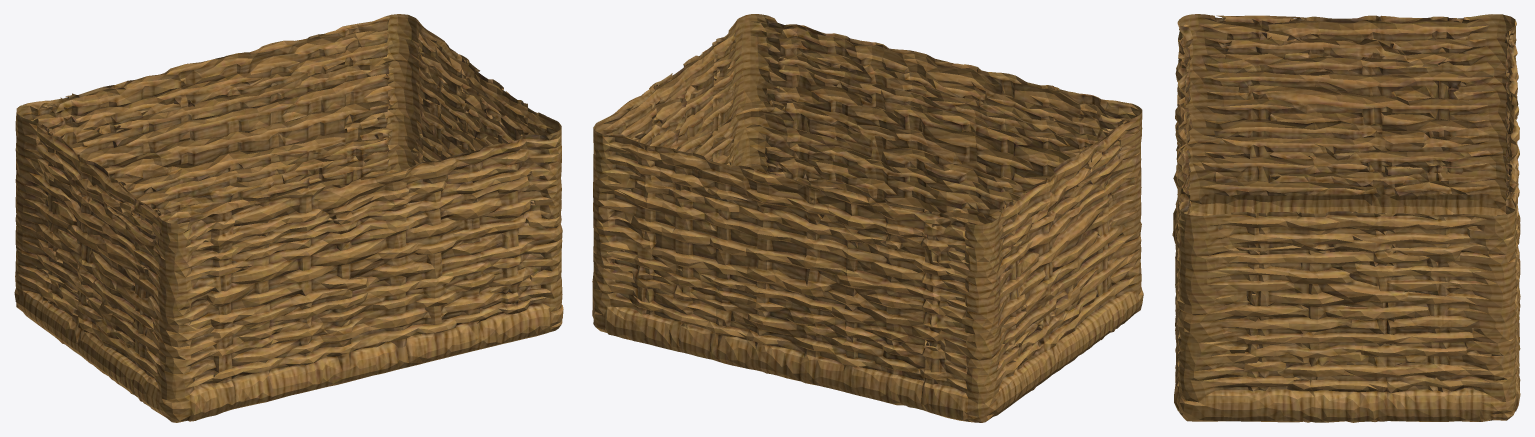
File: basket_body.glb
The picture shows the model from 3 angles, left to right: view 1: azimuth 30°, elevation 25°; view 2: azimuth 150°, elevation 25°; view 3: azimuth 270°, elevation 25°; orthographic projection. The views are drawn at different scales.
Visible parts, largest first — view 1: source_surface_0; view 2: source_surface_0; view 3: source_surface_0.
Boxes of the visible parts, x1,y1,x2,y2 form: source_surface_0: [14, 14, 563, 422]; source_surface_0: [592, 14, 1143, 422]; source_surface_0: [1172, 14, 1520, 422].
Bounding box in the file's own units: 0.3998 × 0.1931 × 0.2882.
1 material, 1 textured.
